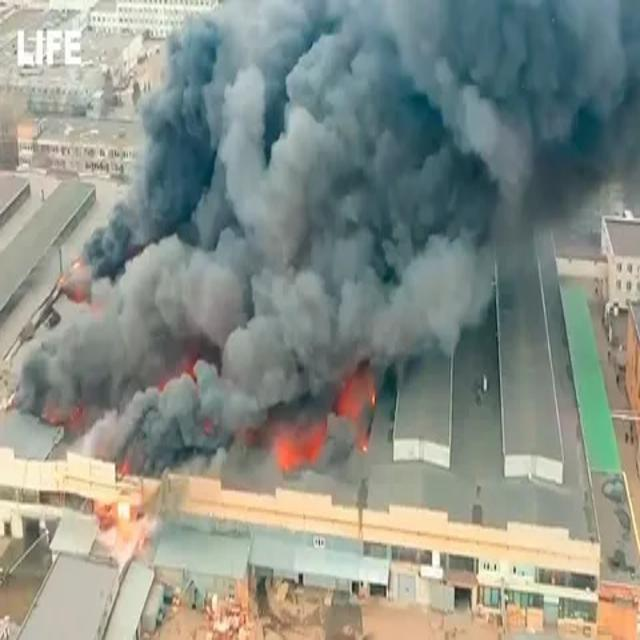Smoke: (17, 0, 640, 474)
